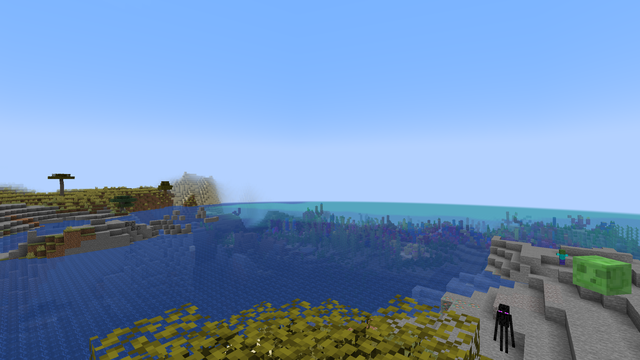endermens: (497, 301, 509, 355)
slimes: (578, 252, 627, 297)
zombies: (558, 249, 565, 266)
